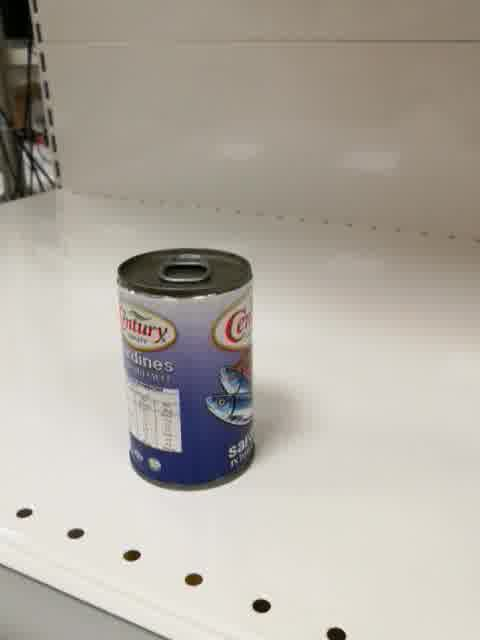sardine: (115, 246, 257, 493)
